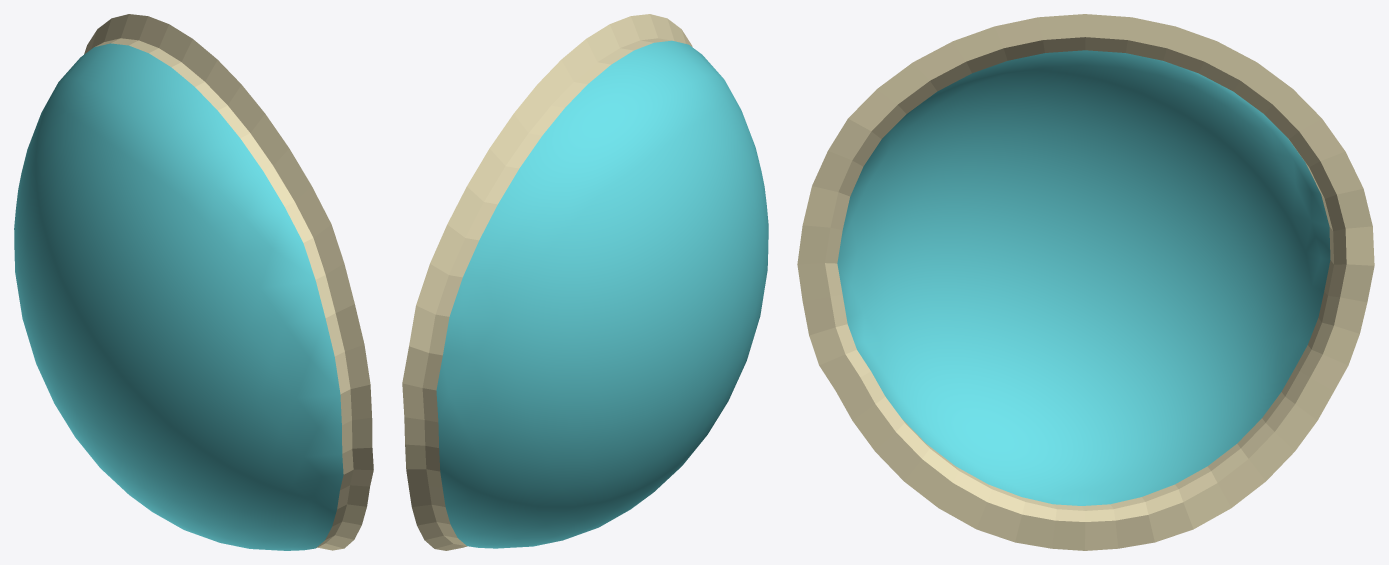
The model's file is PlanetWindow.fbx.
3 views of the same model, side by side, from view 1: azimuth 30°, elevation 25°; view 2: azimuth 150°, elevation 25°; view 3: azimuth 270°, elevation 25° (orthographic). The views are drawn at different scales.
Parts seen in each view (by area): view 1: PlanetWindow; view 2: PlanetWindow; view 3: PlanetWindow.
Boxes of the visible parts, left/top/right/bottom form: PlanetWindow: left=14, top=14, right=373, bottom=550; PlanetWindow: left=402, top=14, right=768, bottom=550; PlanetWindow: left=797, top=14, right=1374, bottom=550.
Size of the model in its own units: 3220 by 7049 by 7453.
